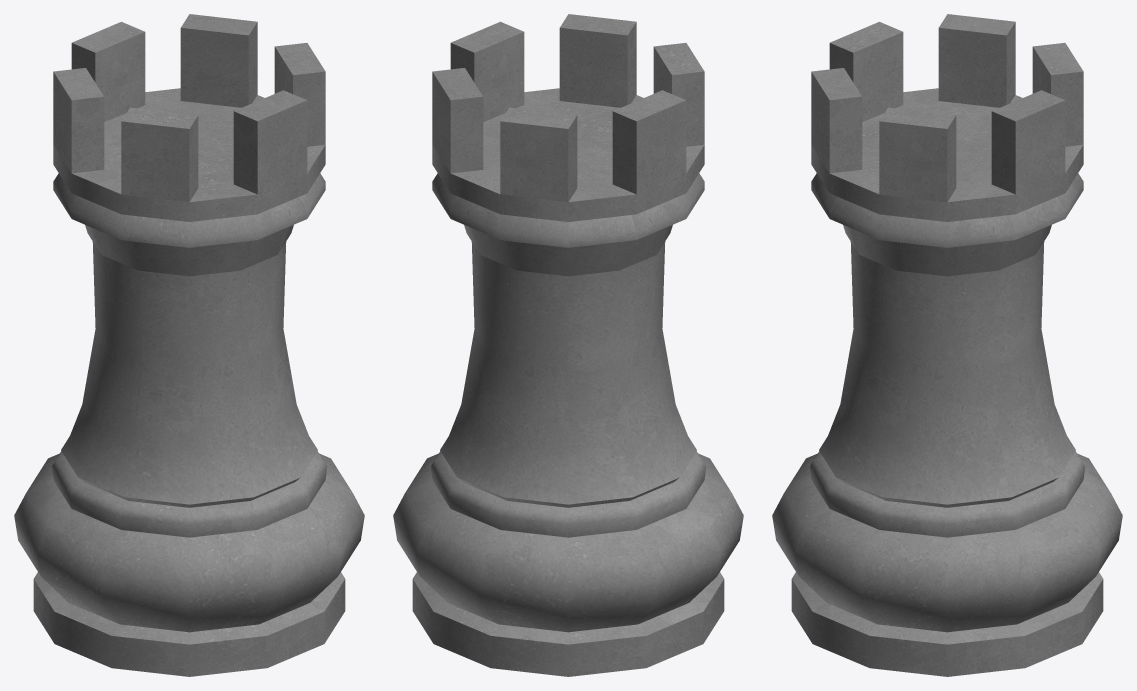
Rendered from SRook.obj.
3 renders of one model, left to right at view 1: azimuth 30°, elevation 25°; view 2: azimuth 150°, elevation 25°; view 3: azimuth 270°, elevation 25°, orthographic.
Parts seen in each view (by area): view 1: Tower.002; view 2: Tower.002; view 3: Tower.002.
Boxes of the visible parts, box(x1,y1,x2,y2) form: Tower.002: box(14, 14, 364, 676); Tower.002: box(393, 14, 743, 676); Tower.002: box(772, 14, 1122, 676).
Bounding box in the file's own units: 0.1964 × 0.3336 × 0.1964.
1 material, 1 textured.
